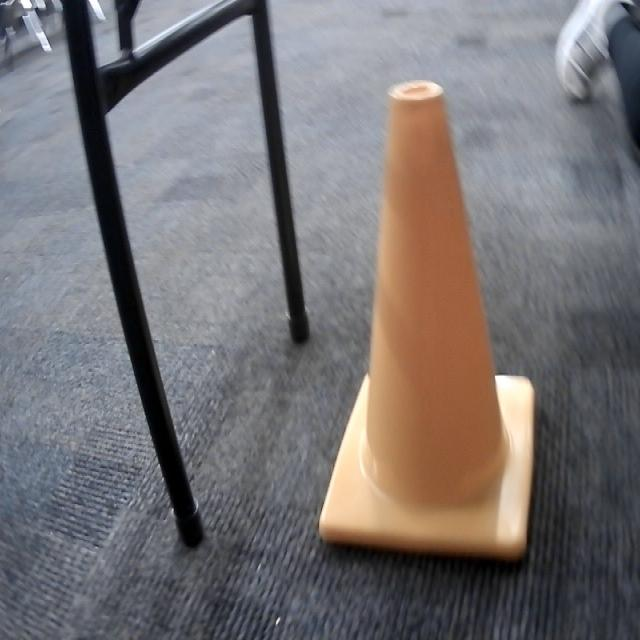cone: (309, 74, 540, 564)
